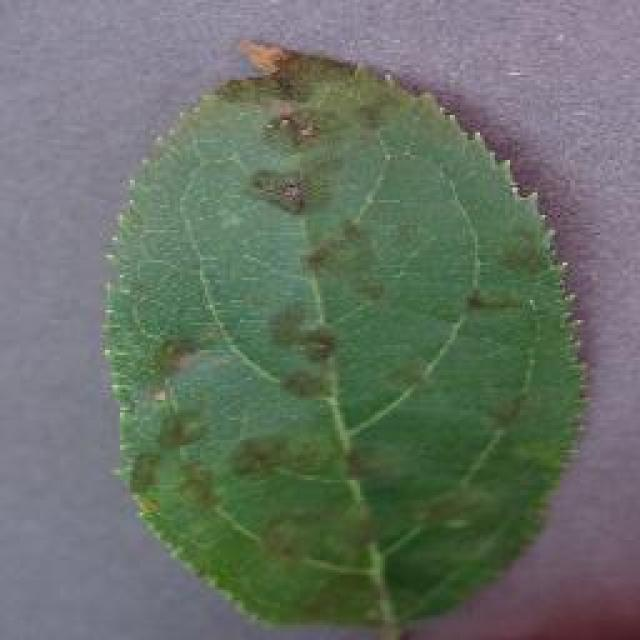apple scab disease: (98, 35, 592, 637)
